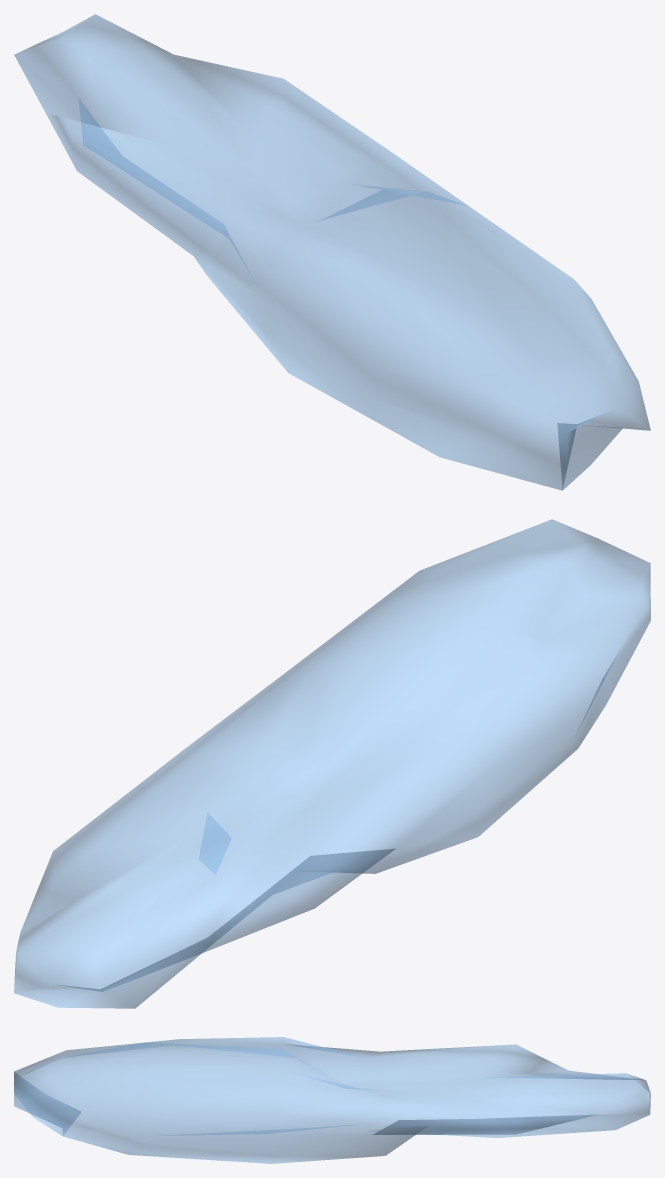
The model's file is tfleetcar_shield.gltf.
3 renders of one model, top to bottom at view 1: azimuth 30°, elevation 25°; view 2: azimuth 150°, elevation 25°; view 3: azimuth 270°, elevation 25°, orthographic. The views are drawn at different scales.
Parts seen in each view (by area): view 1: tfleetcar.shield; view 2: tfleetcar.shield; view 3: tfleetcar.shield.
Part boxes in pixels (x1,y1,x2,y2): tfleetcar.shield: (14, 14, 650, 490); tfleetcar.shield: (14, 519, 650, 1008); tfleetcar.shield: (14, 1037, 650, 1163).
Bounding box in the file's own units: 8.93 × 6.37 × 35.8.
